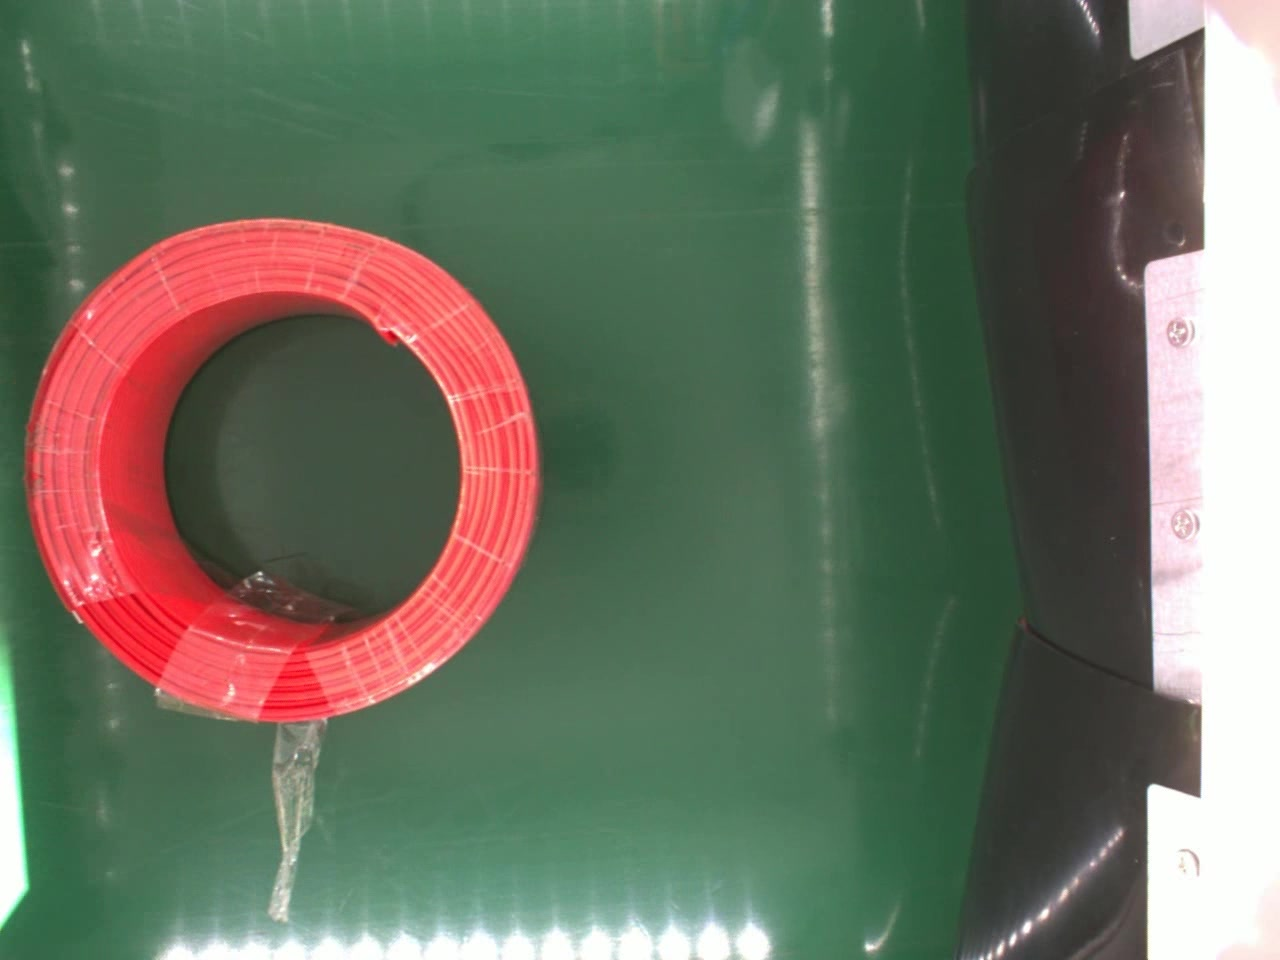red: (25, 214, 542, 723)
